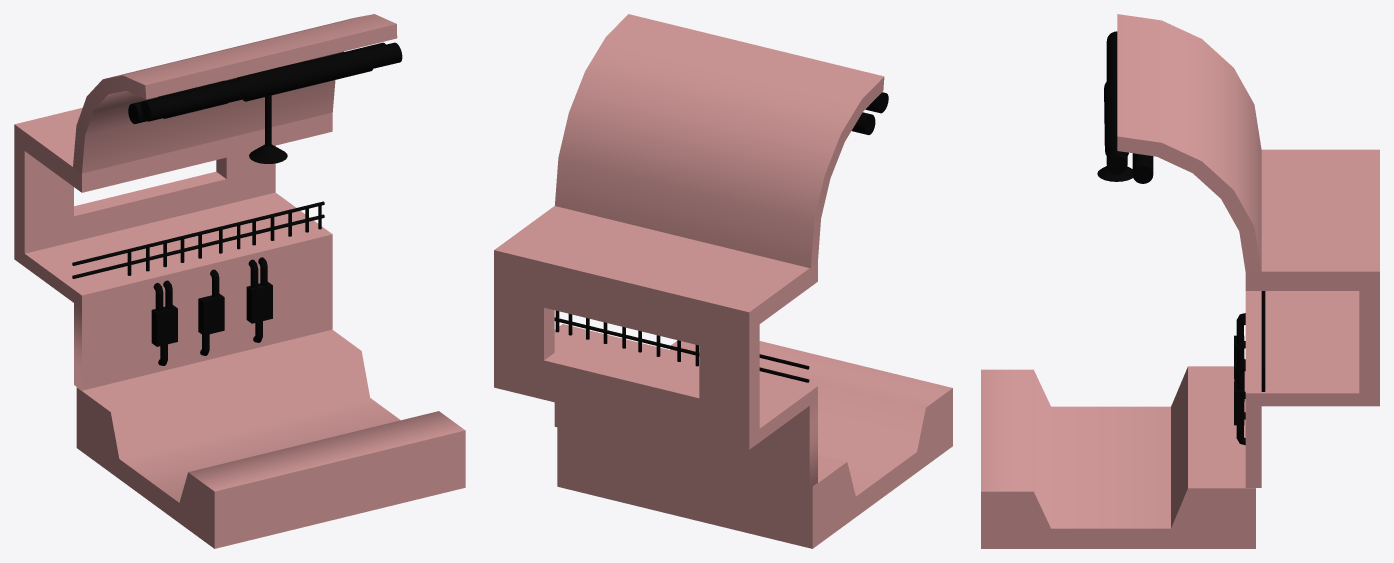
The model's file is sewer_room8.fbx.
3 views of the same model, side by side, from view 1: azimuth 30°, elevation 25°; view 2: azimuth 150°, elevation 25°; view 3: azimuth 270°, elevation 25° (orthographic). The views are drawn at different scales.
Parts seen in each view (by area): view 1: room8_walls, room8_metal; view 2: room8_walls, room8_metal; view 3: room8_walls, room8_metal.
Part boxes in pixels (<box>): room8_walls: <box>14,14,465,548</box>; room8_metal: <box>72,42,402,365</box>; room8_walls: <box>494,14,952,548</box>; room8_metal: <box>554,92,888,382</box>; room8_walls: <box>981,14,1379,548</box>; room8_metal: <box>1097,31,1265,445</box>.
Bounding box in the file's own units: 2.01 × 3.15 × 2.76.
